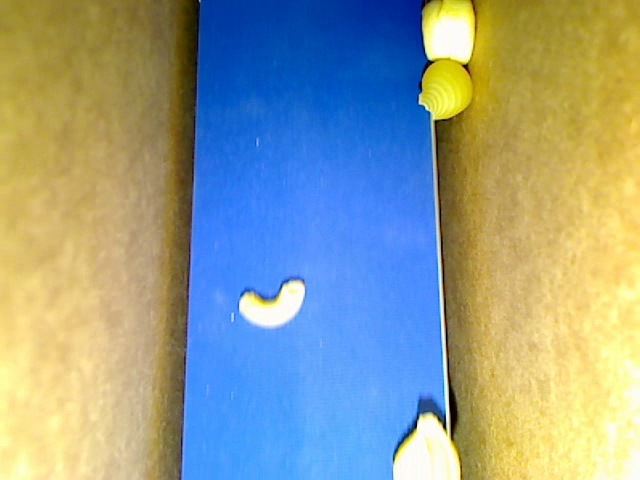elbow: (238, 278, 304, 328)
shell: (393, 410, 461, 479), (418, 60, 473, 119)
